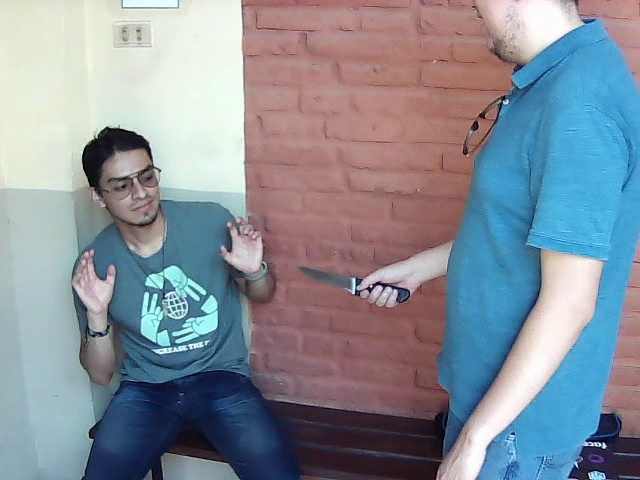cuchillo: (296, 258, 386, 307)
